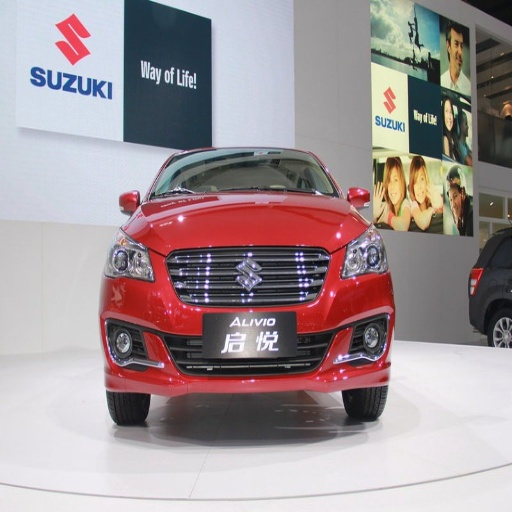front_bumper: (101, 246, 392, 396)
front_right_light: (106, 228, 157, 282)
hood: (127, 193, 366, 251)
